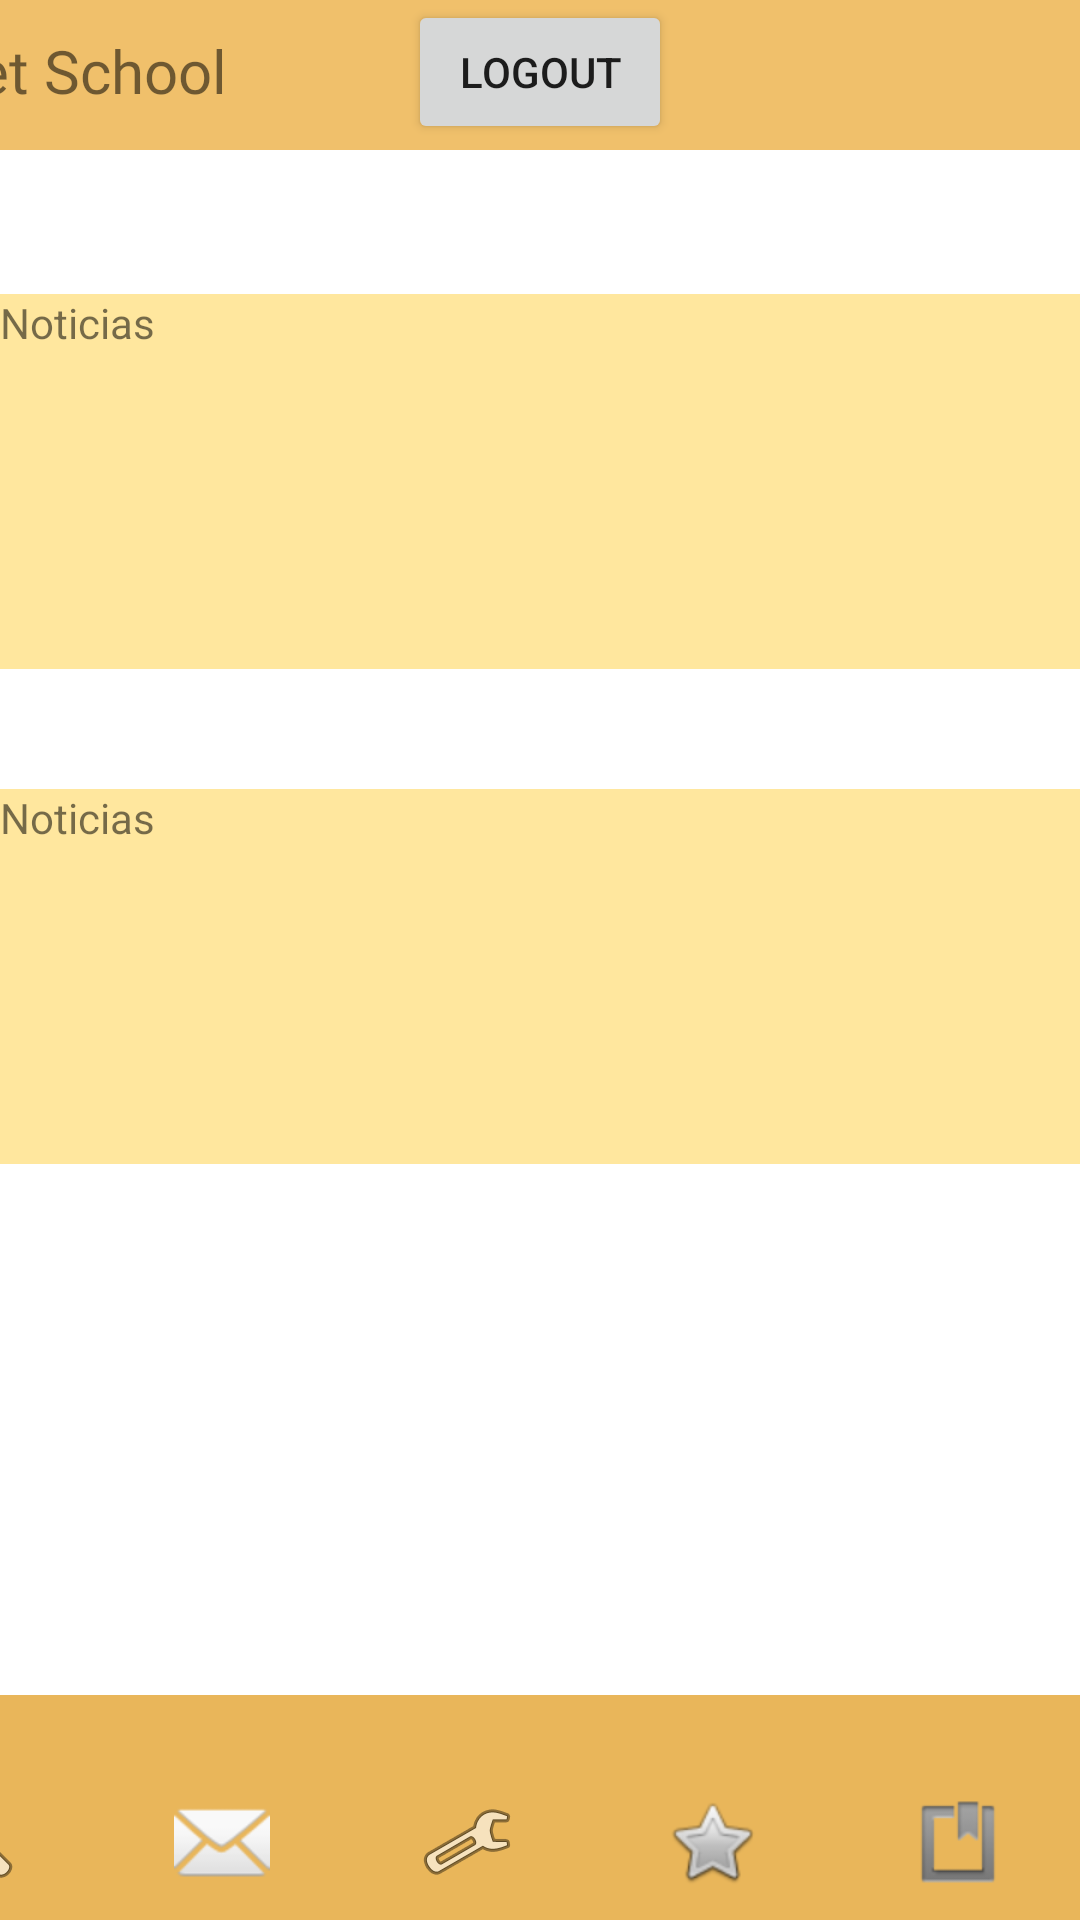

Icons on this 1080px×1920px Android screen, each with the point to tap as (x,y):
email: (222,1842)
preferences: (467,1842)
star: (713,1843)
